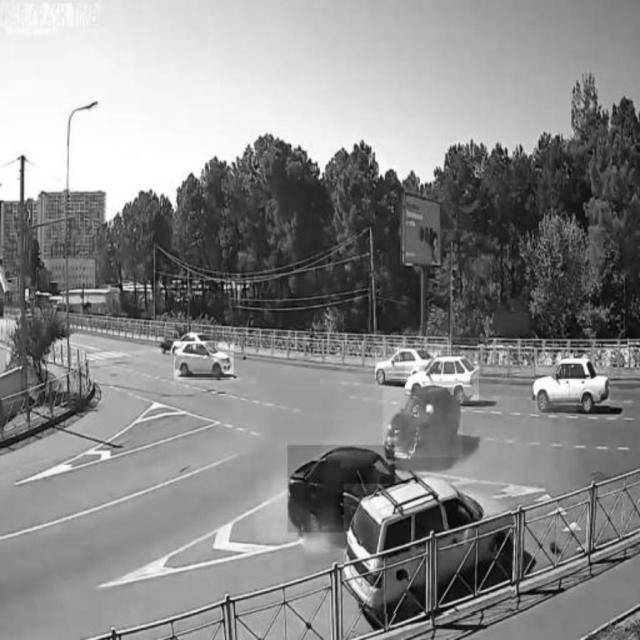vehicle: (345, 485, 512, 615), (288, 445, 396, 533), (383, 389, 463, 457), (535, 357, 609, 412), (405, 353, 478, 401), (174, 342, 234, 379), (374, 345, 425, 385)
